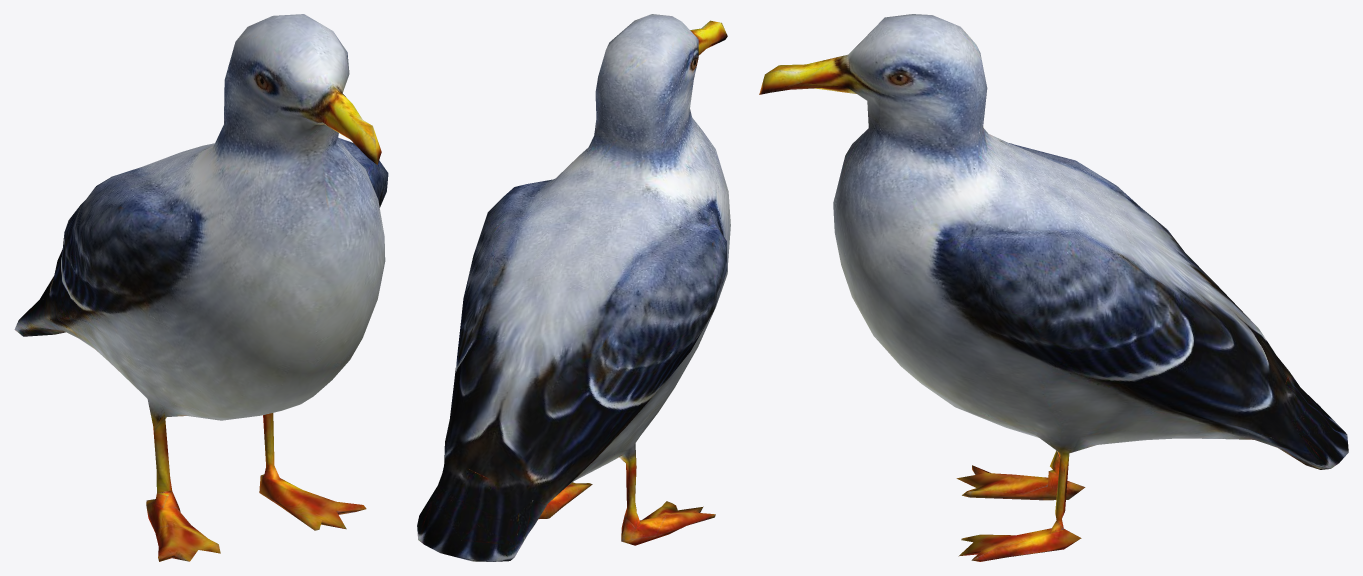
File: mouette.glb
3 views of the same model, side by side, from view 1: azimuth 30°, elevation 25°; view 2: azimuth 150°, elevation 25°; view 3: azimuth 270°, elevation 25° (orthographic). The views are drawn at different scales.
Parts seen in each view (by area): view 1: Seagull_Low_Poly; view 2: Seagull_Low_Poly; view 3: Seagull_Low_Poly.
Boxes of the visible parts, x1,y1,x2,y2 form: Seagull_Low_Poly: (14,14,388,561); Seagull_Low_Poly: (417,14,730,561); Seagull_Low_Poly: (759,14,1348,561).
Size of the model in its own units: 0.1877 by 0.3523 by 0.3717.
Materials: 1 (1 with a texture image).
